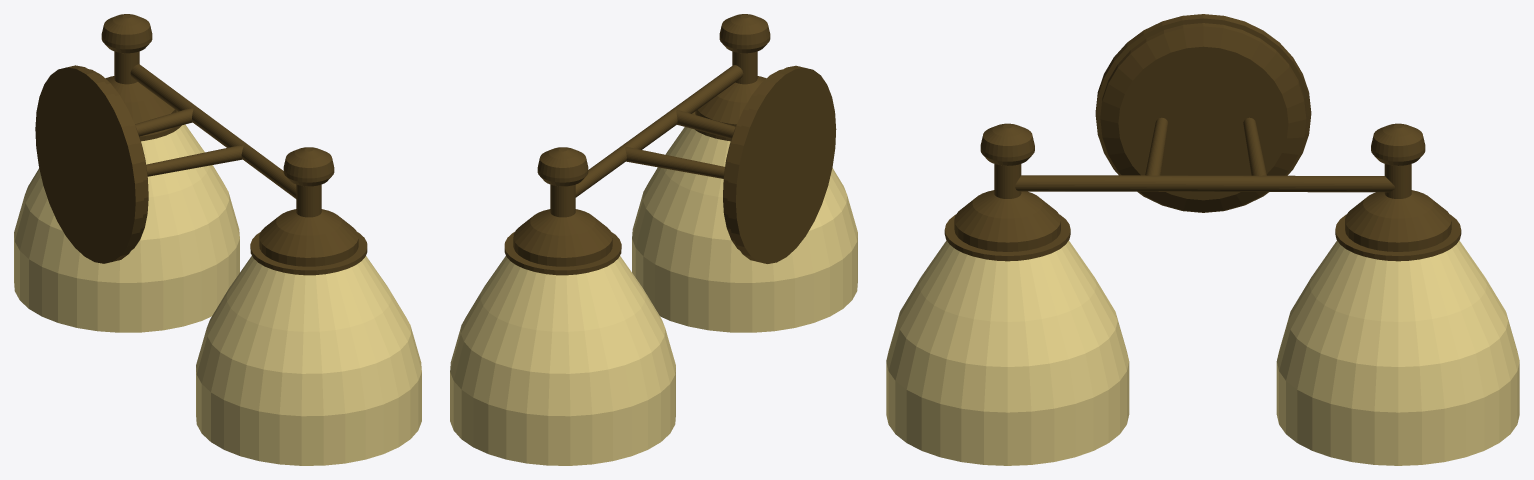
Rendered from Wandlampe.fbx.
The picture shows the model from 3 angles, left to right: view 1: azimuth 30°, elevation 25°; view 2: azimuth 150°, elevation 25°; view 3: azimuth 270°, elevation 25°; orthographic projection. The views are drawn at different scales.
Visible parts, largest first — view 1: Cylinder; view 2: Cylinder; view 3: Cylinder.
Boxes of the visible parts, x1,y1,x2,y2 form: Cylinder: [14, 14, 421, 465]; Cylinder: [450, 14, 857, 465]; Cylinder: [886, 14, 1519, 465].
Size of the model in its own units: 184 by 235 by 406.
